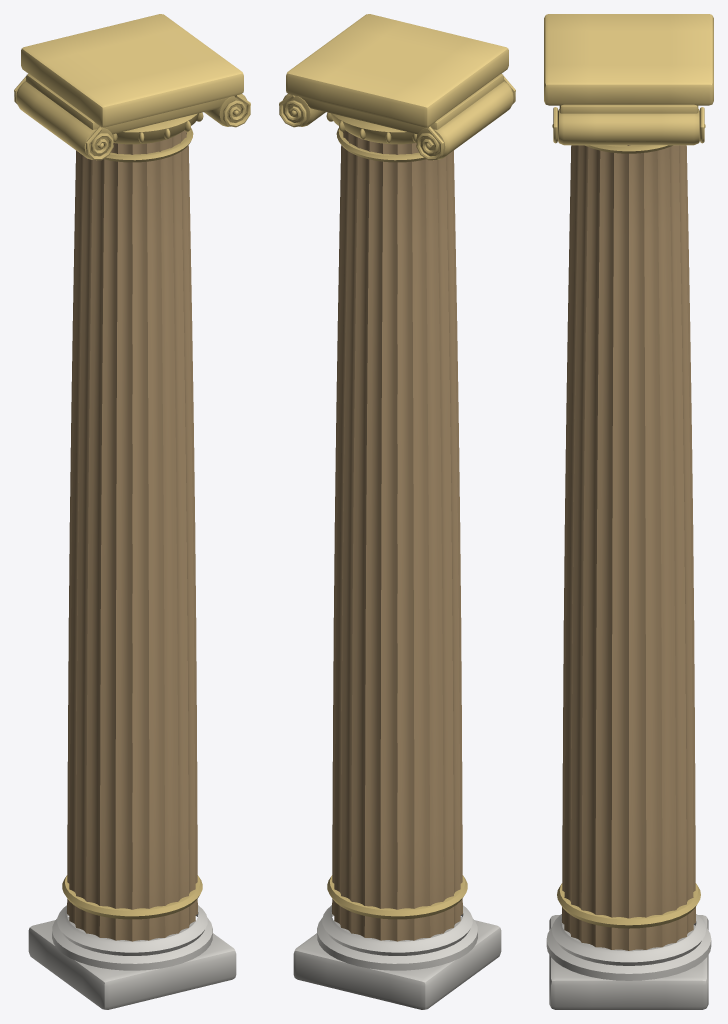
File: obj_kit_stoacol.glb
3 renders of one model, left to right at view 1: azimuth 30°, elevation 25°; view 2: azimuth 150°, elevation 25°; view 3: azimuth 270°, elevation 25°, orthographic. The views are drawn at different scales.
Parts seen in each view (by area): view 1: shaft, Cube.002, Cube, base, Cylinder, Cube.001, Torus, echinus, Torus.001, vol.002, vol; view 2: shaft, Cube.002, Cube, base, Cylinder, Cube.001, Torus, echinus, Torus.001, vol.003, vol.001; view 3: shaft, Cube.002, Cube, base, Cylinder.001, Torus, Cube.001, Torus.001.
Boxes of the visible parts, bbox=[...] form: shaft: bbox=[67, 130, 197, 941]; Cube.002: bbox=[21, 14, 243, 127]; Cube: bbox=[28, 917, 236, 1009]; base: bbox=[52, 905, 212, 970]; Cylinder: bbox=[16, 81, 113, 159]; Cube.001: bbox=[26, 73, 229, 134]; Torus: bbox=[62, 875, 202, 919]; echinus: bbox=[113, 113, 198, 144]; Torus.001: bbox=[103, 128, 193, 162]; vol.002: bbox=[223, 95, 250, 127]; vol: bbox=[85, 126, 113, 160]; shaft: bbox=[332, 130, 462, 941]; Cube.002: bbox=[286, 14, 508, 127]; Cube: bbox=[293, 917, 501, 1009]; base: bbox=[317, 905, 477, 970]; Cylinder: bbox=[416, 81, 513, 159]; Cube.001: bbox=[300, 73, 503, 134]; Torus: bbox=[327, 875, 467, 919]; echinus: bbox=[331, 113, 416, 144]; Torus.001: bbox=[336, 128, 426, 162]; vol.003: bbox=[279, 95, 306, 127]; vol.001: bbox=[416, 126, 444, 160]; shaft: bbox=[562, 145, 695, 950]; Cube.002: bbox=[544, 14, 713, 105]; Cube: bbox=[549, 915, 708, 1009]; base: bbox=[546, 914, 711, 980]; Cylinder.001: bbox=[558, 109, 699, 145]; Torus: bbox=[557, 883, 700, 928]; Cube.001: bbox=[559, 104, 698, 113]; Torus.001: bbox=[585, 145, 672, 153].
Size of the model in its own units: 0.77 by 3.99 by 0.66.
